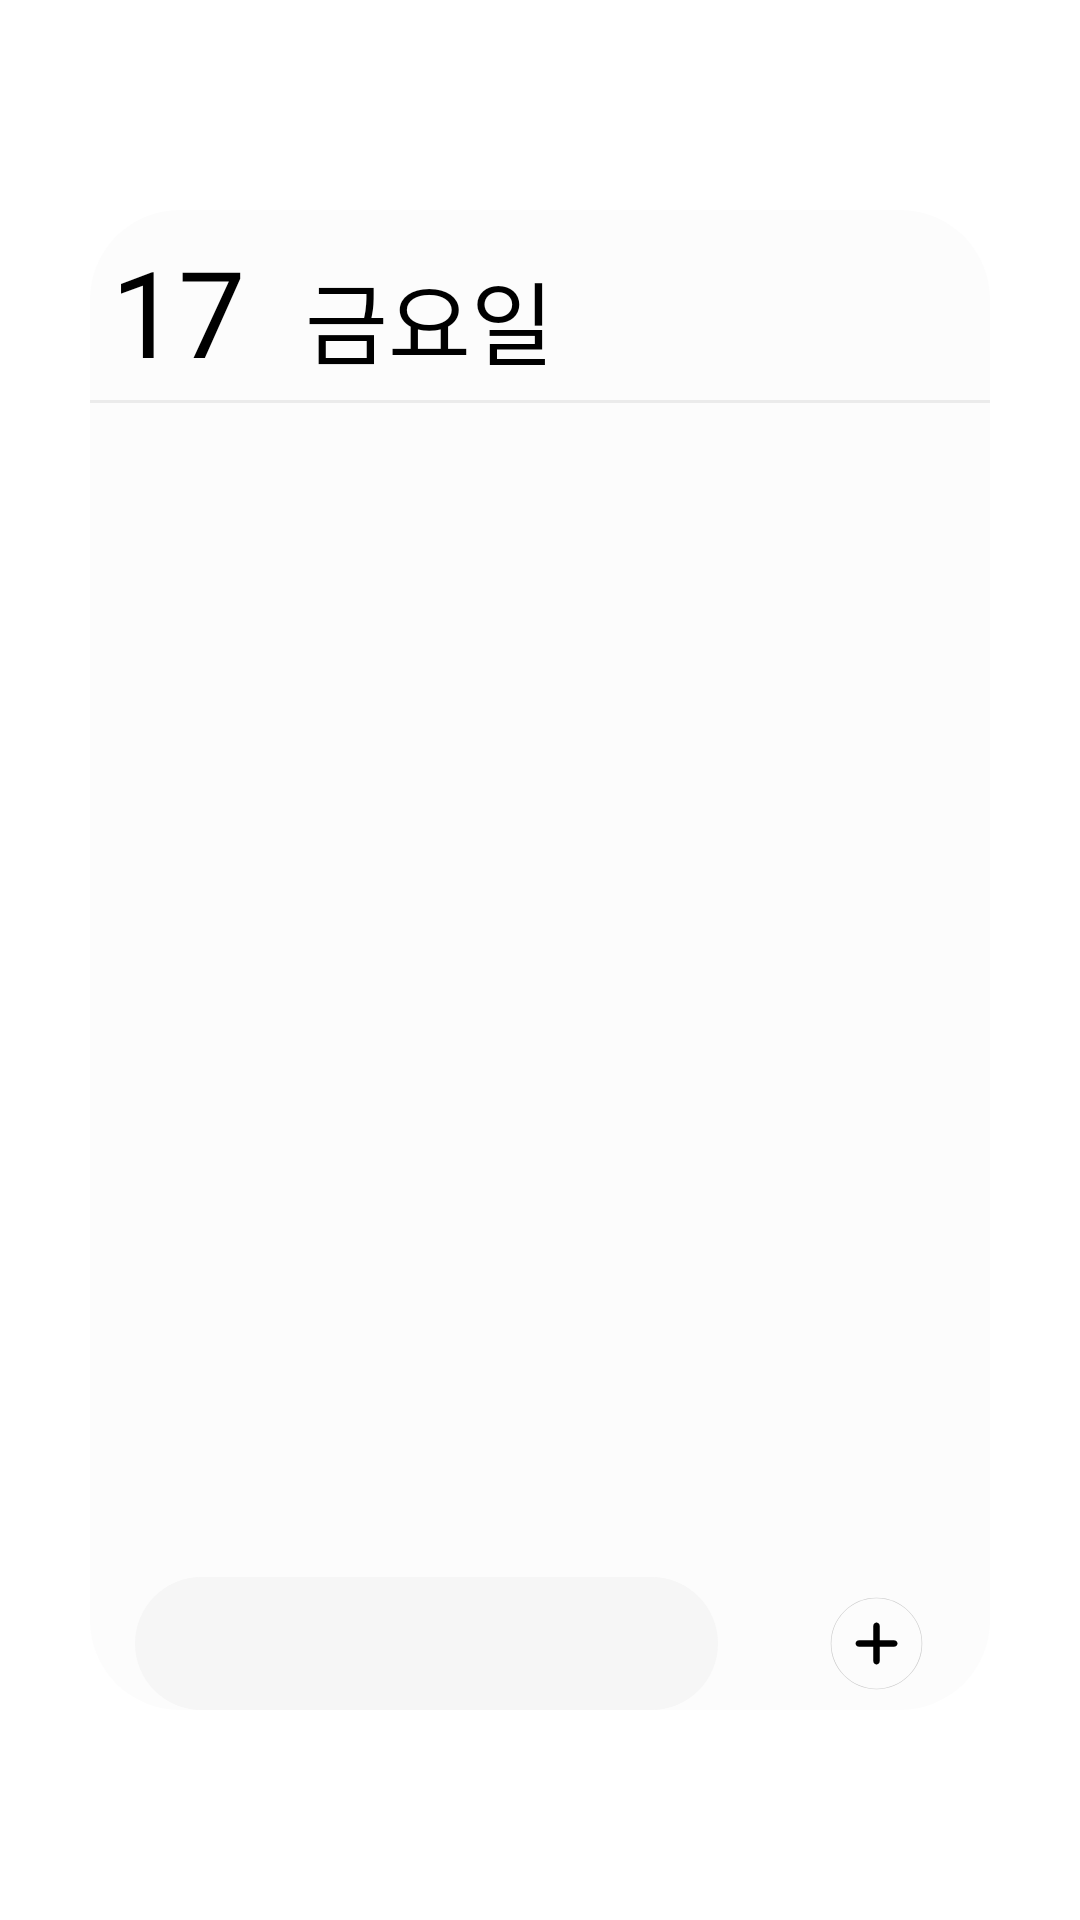

Named icons in this screenshot (1080×1920) and their bounding boxes, detection(x1, y1, x2, y2):
add circle: detection(831, 1598, 922, 1689)
